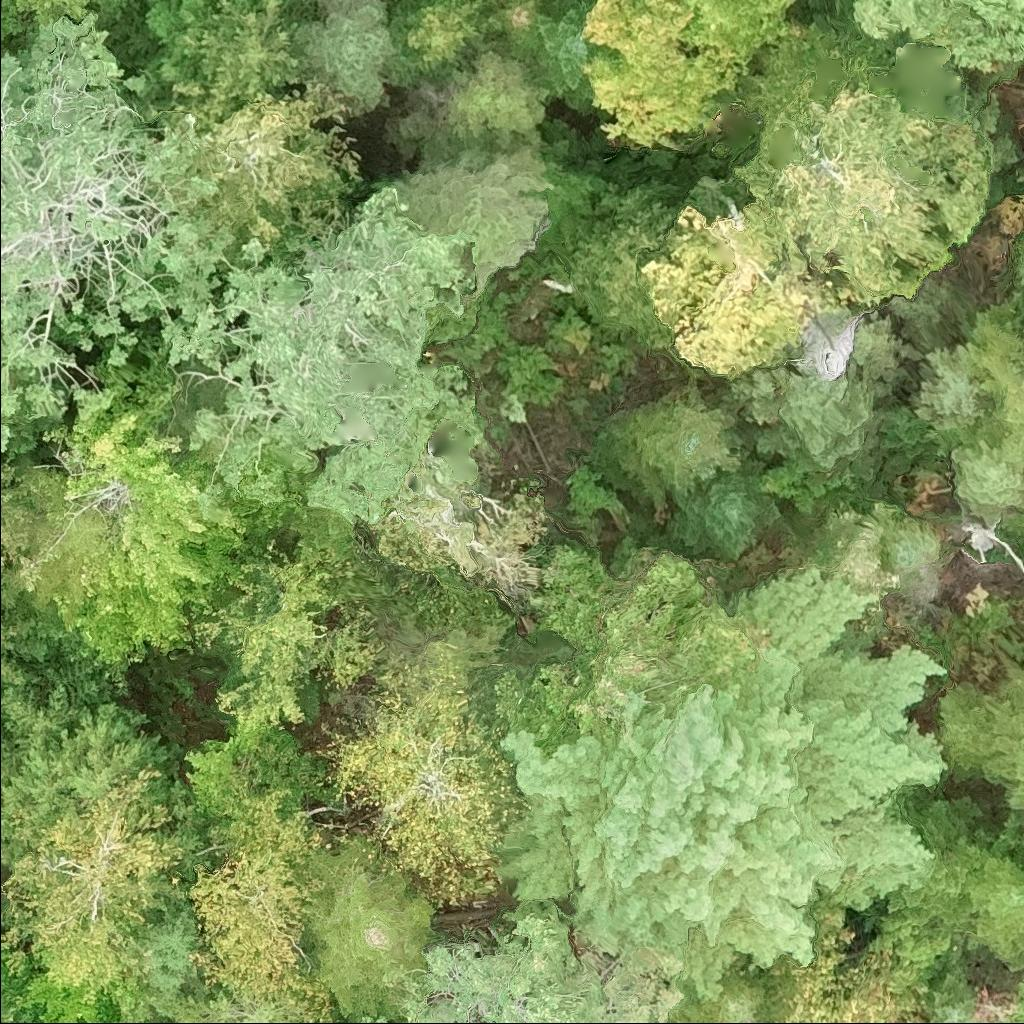crown: (492, 561, 952, 1003), (0, 7, 235, 453), (185, 186, 488, 530), (43, 398, 251, 675), (737, 82, 990, 302), (332, 640, 529, 904), (0, 766, 191, 995), (637, 203, 863, 376), (355, 909, 690, 1023), (187, 782, 336, 1023), (0, 700, 173, 875), (194, 85, 360, 263), (379, 132, 550, 296), (299, 832, 436, 1023), (580, 0, 750, 152), (586, 383, 754, 510), (380, 46, 552, 164), (169, 0, 320, 134), (715, 363, 884, 475), (847, 0, 1023, 73), (666, 459, 786, 566), (291, 0, 400, 117), (782, 935, 921, 1023), (383, 0, 503, 88), (523, 0, 609, 111), (962, 303, 1023, 444), (184, 724, 267, 821), (950, 416, 1023, 523), (135, 909, 205, 1017), (679, 0, 795, 63), (911, 342, 992, 430), (975, 665, 1023, 812), (965, 853, 1023, 972), (163, 987, 301, 1023), (23, 967, 102, 1023), (0, 458, 39, 564), (0, 0, 141, 27), (915, 966, 978, 1023), (0, 618, 28, 692), (0, 0, 27, 45), (1000, 507, 1023, 536), (308, 1019, 335, 1023)
